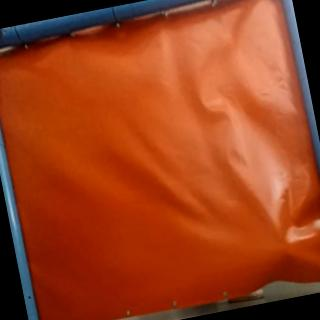Hit-hRxx: (276, 238, 295, 260)
